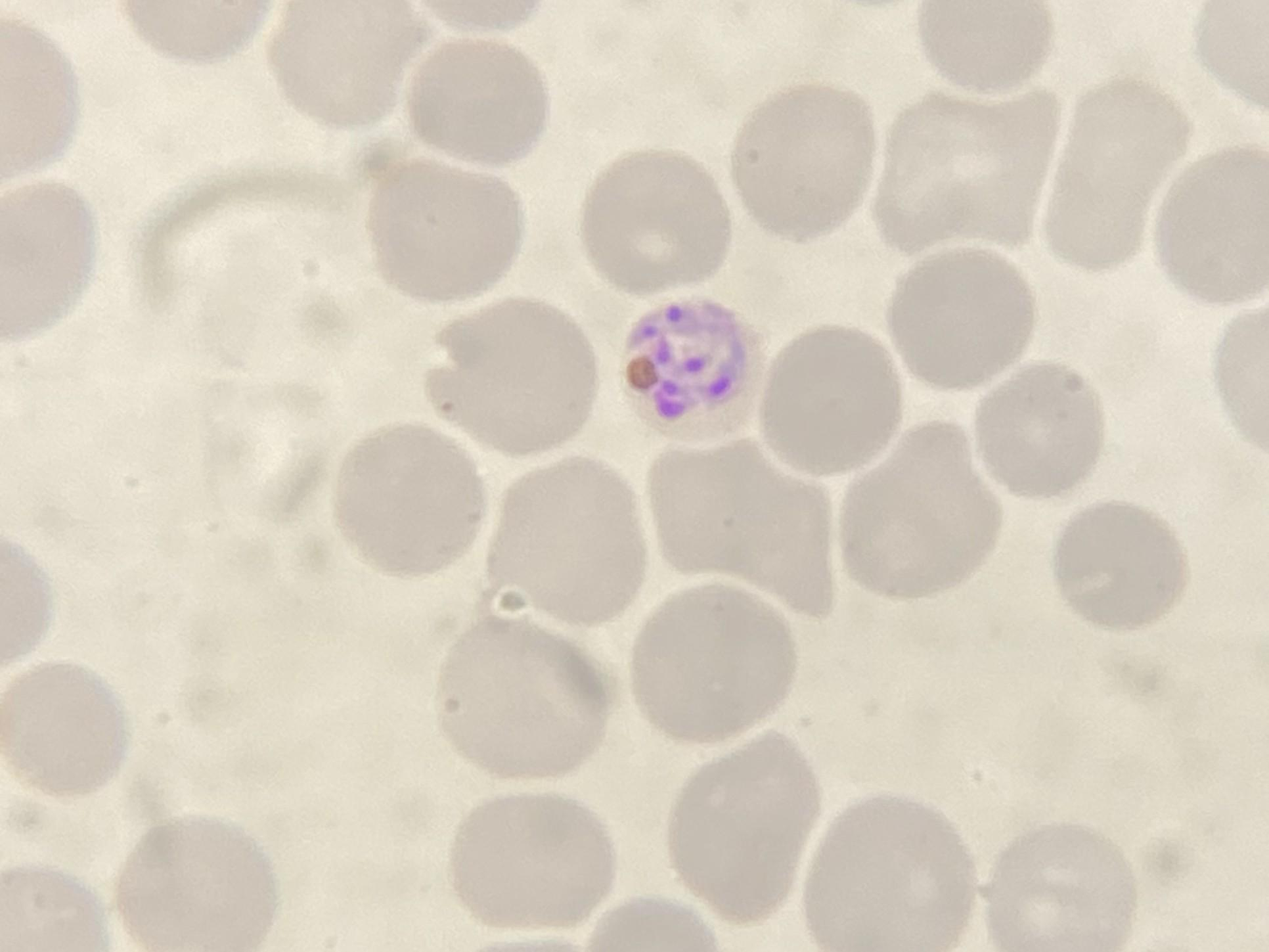Infected: (616, 298, 769, 438)
Uninfected: (645, 438, 833, 616), (871, 91, 1058, 255), (662, 737, 823, 926), (437, 612, 614, 779), (837, 426, 999, 602), (481, 455, 646, 626), (1042, 79, 1190, 269), (627, 586, 798, 746), (801, 796, 975, 952), (430, 297, 599, 456), (334, 422, 489, 578), (729, 83, 881, 242), (368, 158, 528, 307), (447, 793, 614, 932), (577, 147, 730, 293), (887, 247, 1037, 390), (757, 324, 898, 473), (114, 817, 273, 949), (271, 2, 429, 129), (983, 825, 1132, 952), (1052, 500, 1187, 632), (409, 38, 548, 166), (2, 658, 128, 798), (1157, 146, 1269, 301), (974, 363, 1103, 495), (1, 179, 92, 340), (2, 20, 81, 182), (919, 2, 1050, 91), (2, 866, 108, 951)
